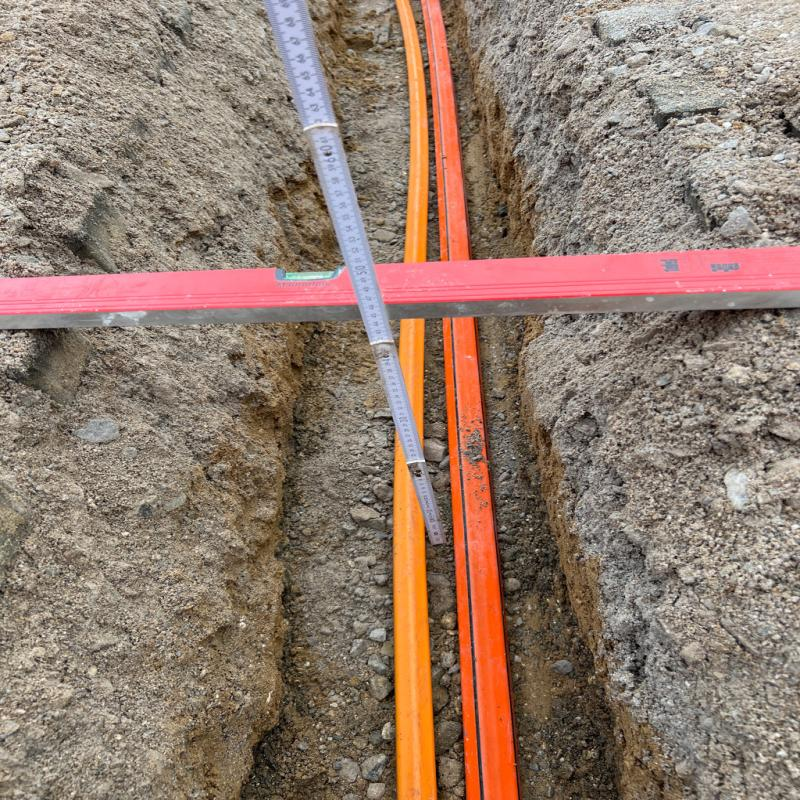Orang-Speednetrohrchen: (444, 317, 520, 797), (393, 319, 434, 799), (423, 0, 470, 258), (394, 1, 428, 263)
